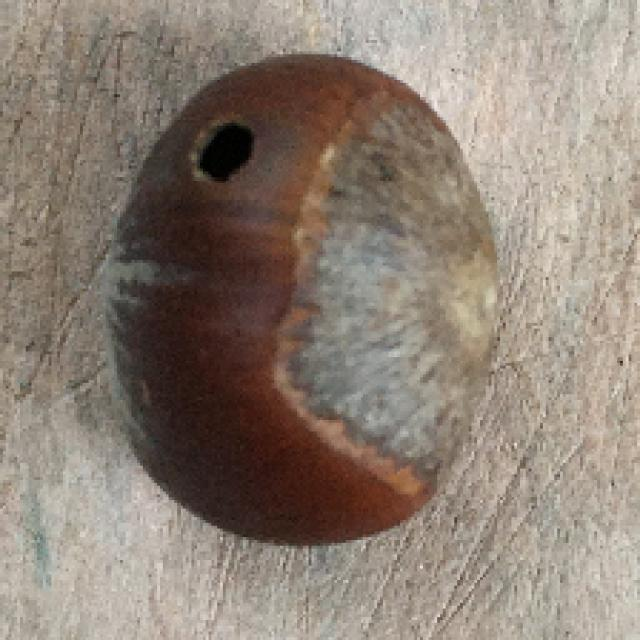damagedHazelnut: (94, 55, 498, 546)
